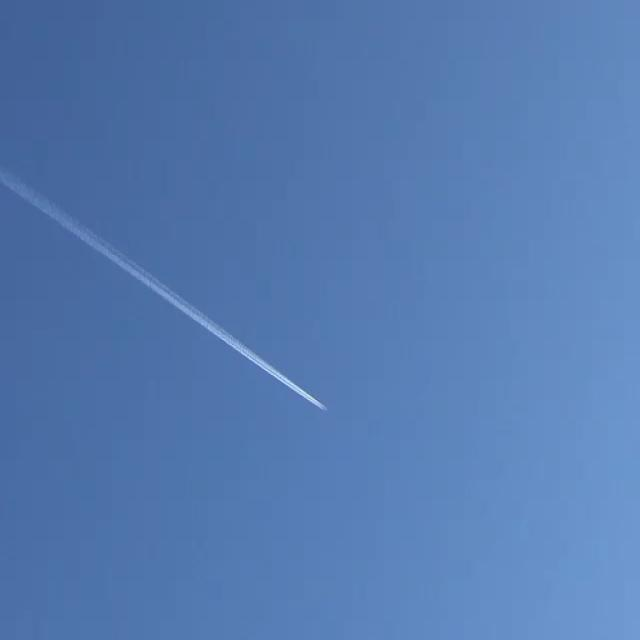AirPlane: (254, 348, 338, 423)
